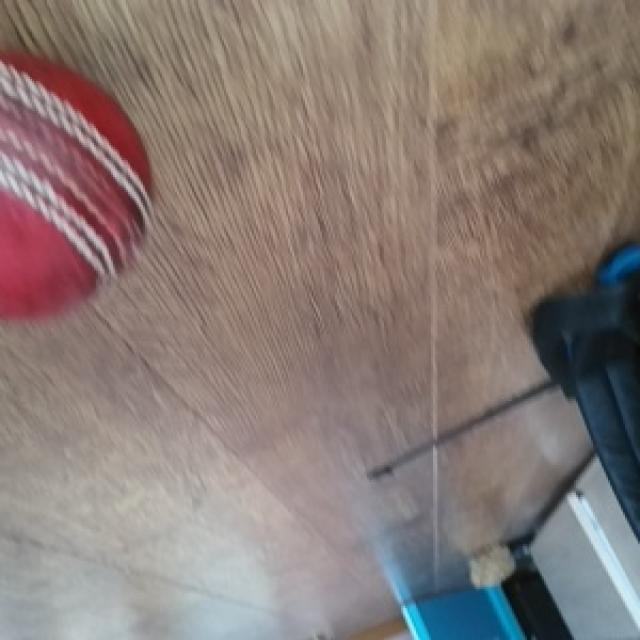ball: (0, 45, 151, 324)
